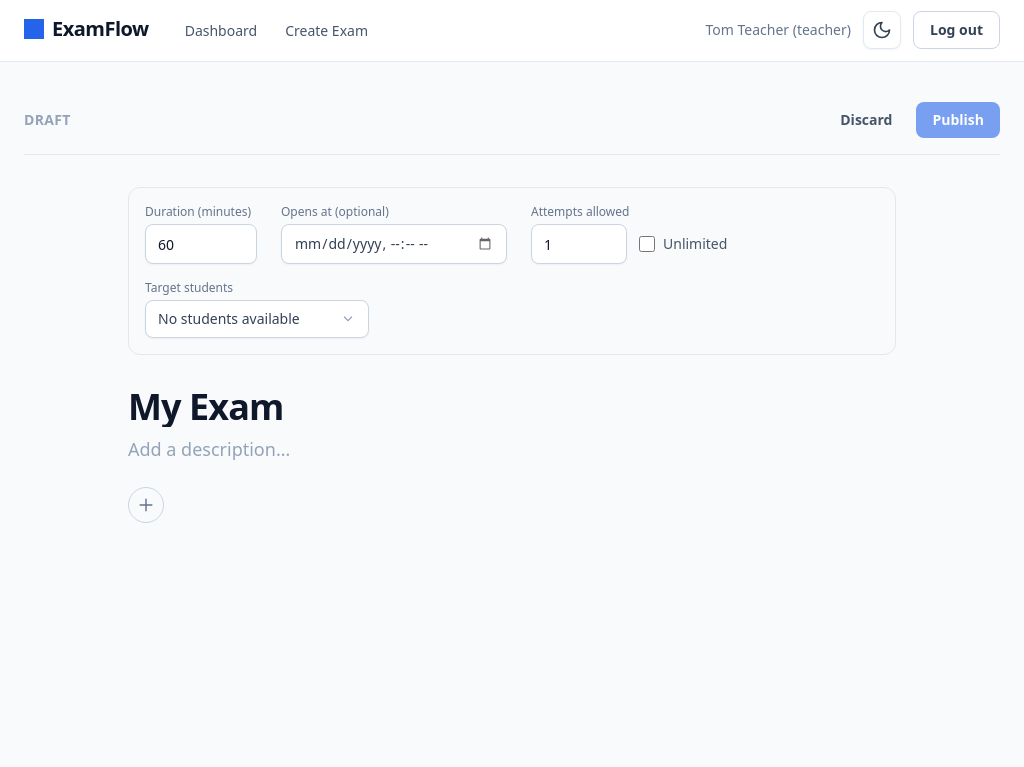
Test: exam editor — validation, options, and payload › sends the correct MCQ payload to the backend
Check: the field showing "My Exam" is shown, box [128,387,896,427]
Step 1. Click the button named "add a question" → (146,505), box [128,487,164,523]
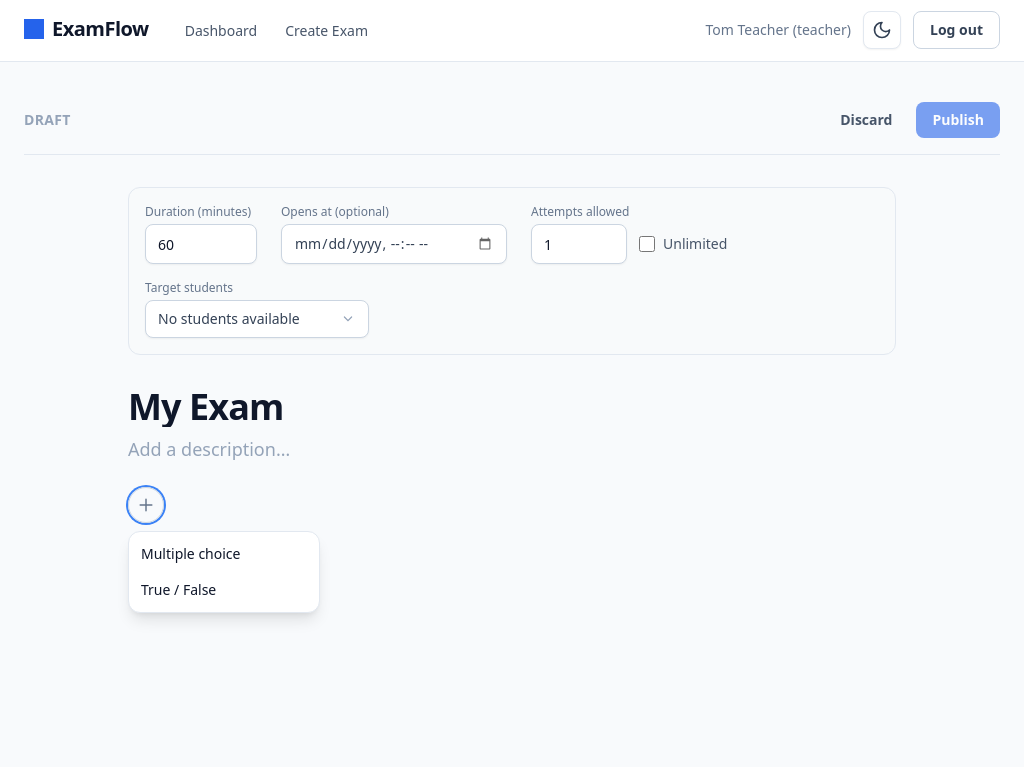
Step 2. Click the menu item "Multiple choice" → (224,554), box [129,536,319,572]
(page scrolled)
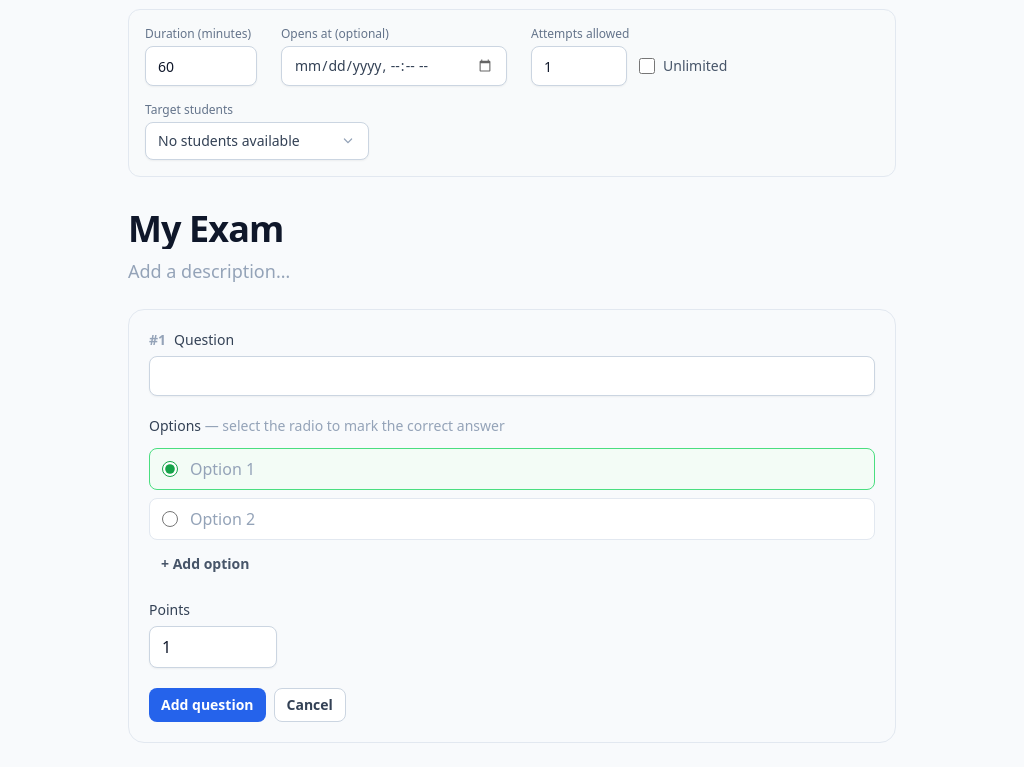
Check: the text box labelled "Question" is shown
Step 3. Type "Capital of France?" into the text box labelled "Question" → (512,376), box [149,356,875,396]
Step 4. Type "Paris" into the field labelled "Option 1" → (526,469), box [190,457,862,481]
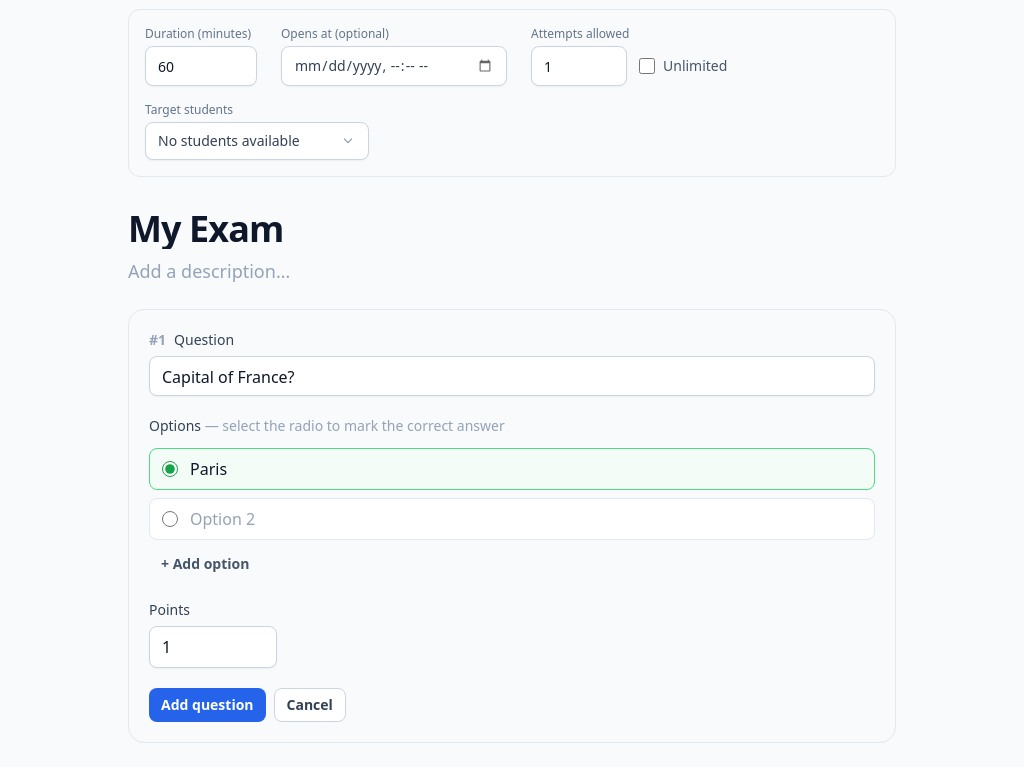
Step 5. Type "Berlin" into the field labelled "Option 2" → (526,519), box [190,507,862,531]
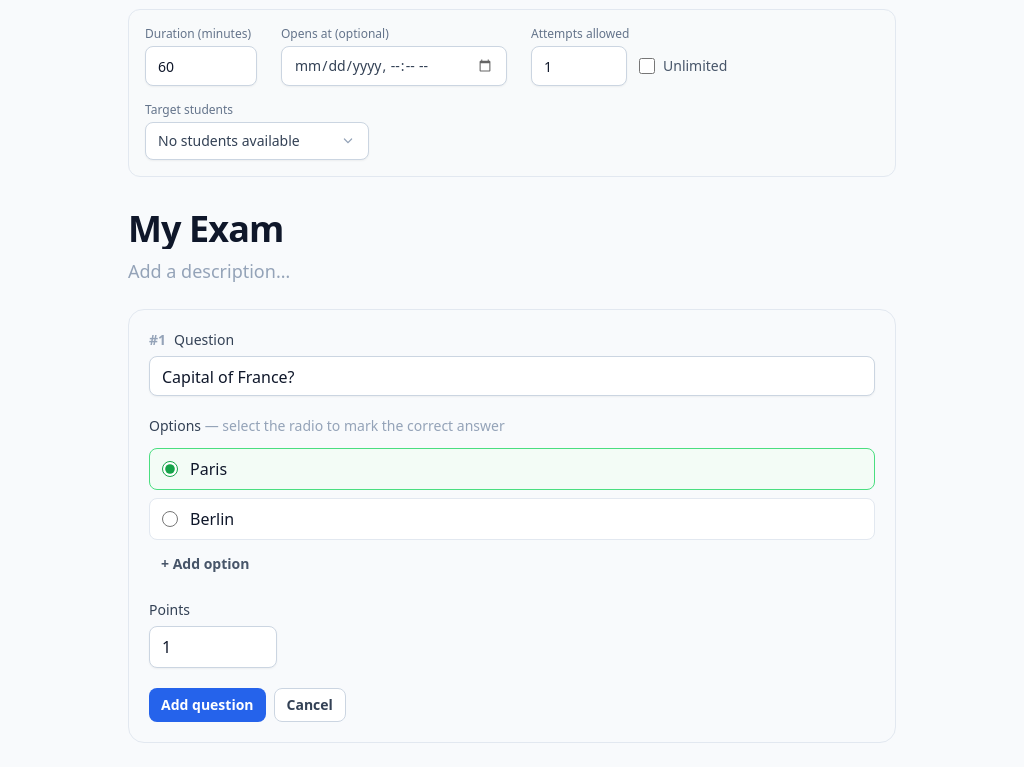
Step 6. Click the radio button named "Mark option 2 as correct" → (170,519), box [162,511,178,527]
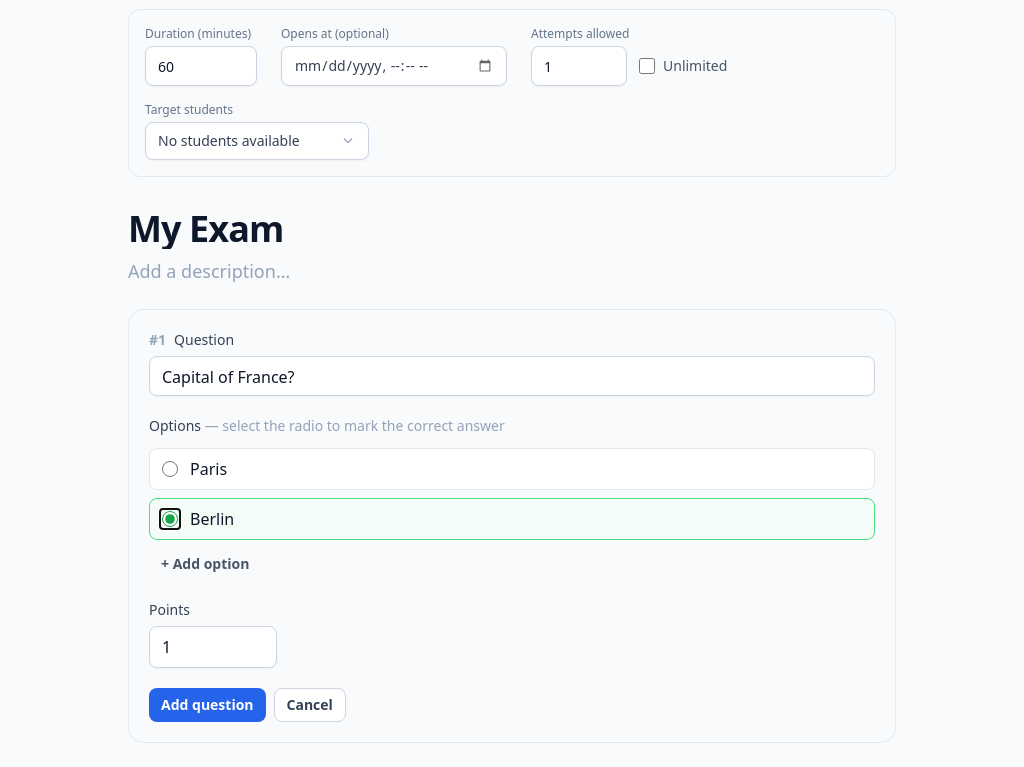
Step 7. Click the button "Add question" → (207,705), box [149,688,266,722]
(page scrolled)
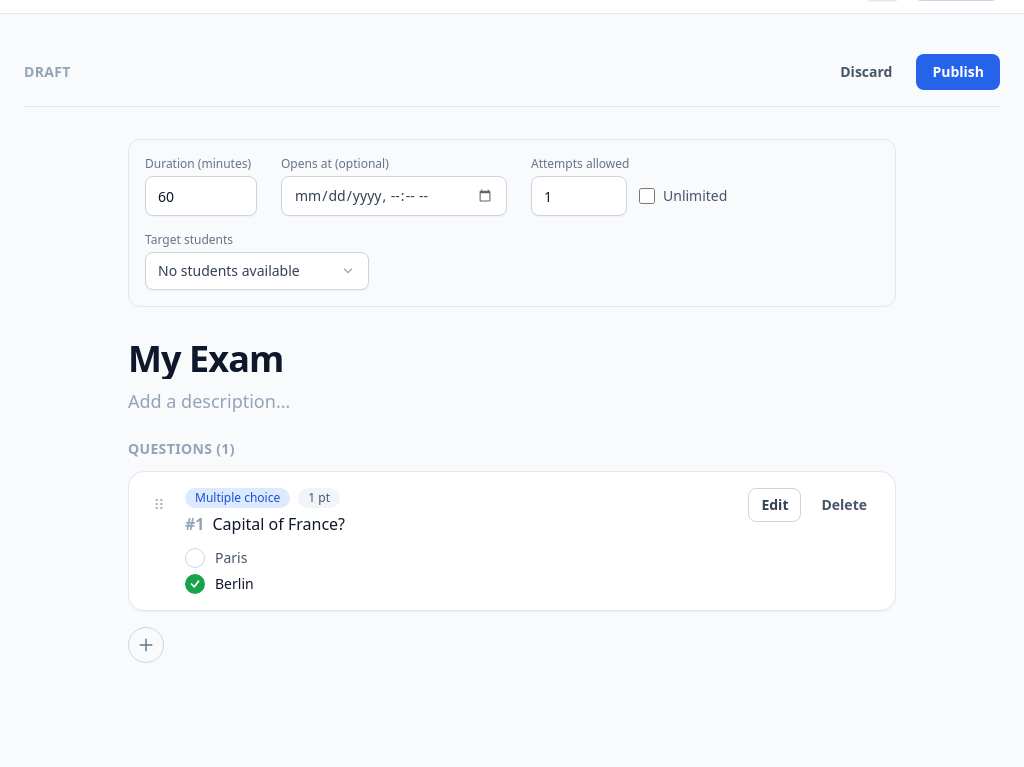
Check: the text "Capital of France?" is shown, box [212,513,345,535]
